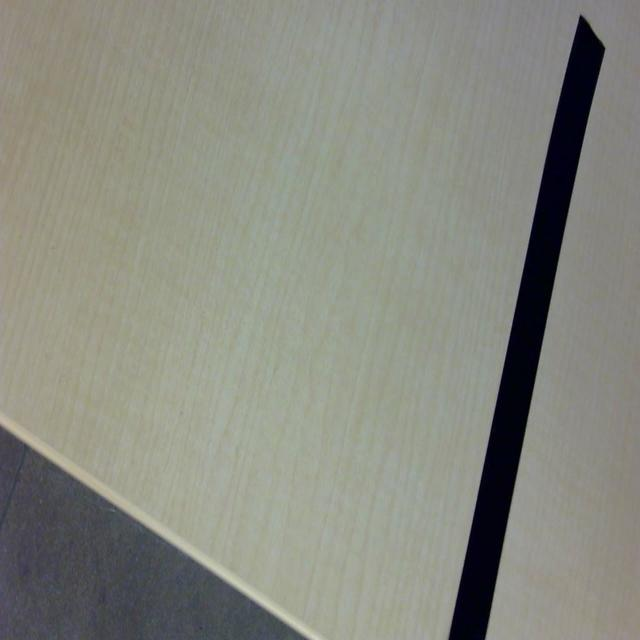tape: (448, 11, 606, 640)
